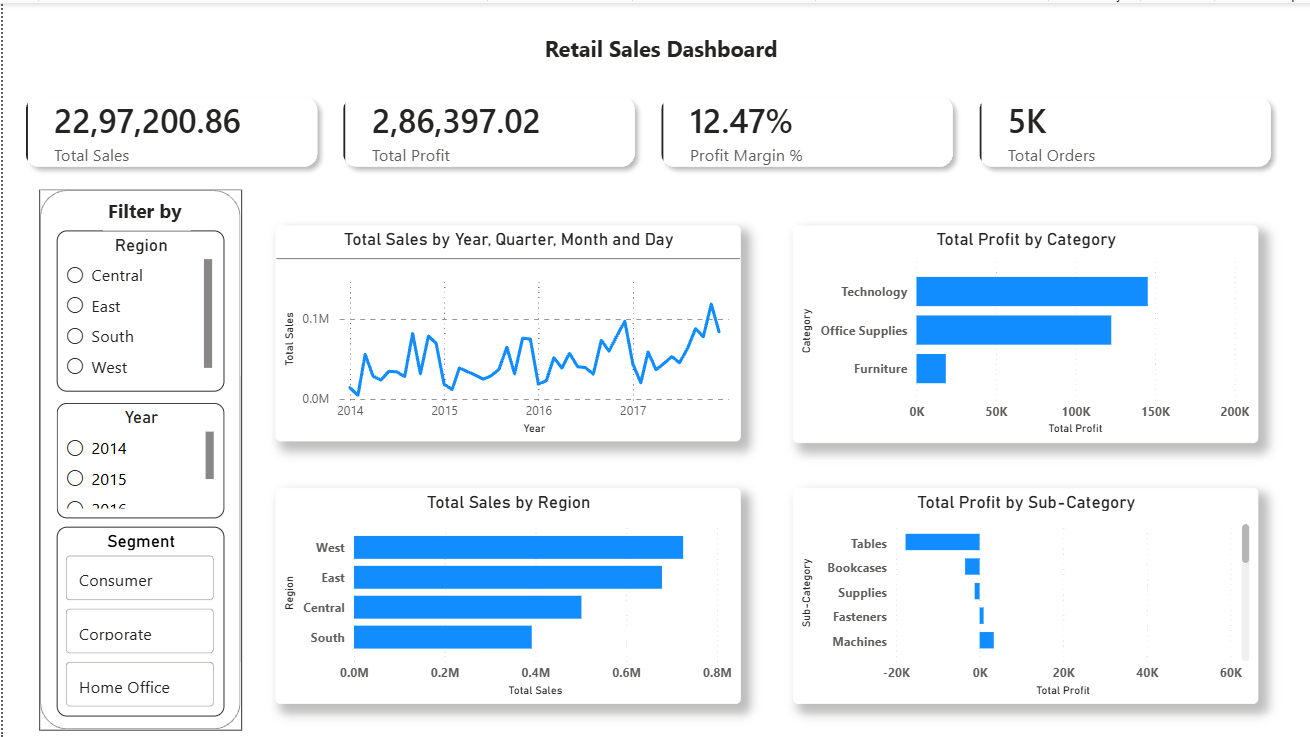

The dashboard page shown, as its layout file describes it:
{"tool":"powerbi","page":{"name":"Page 1","canvas":[1280,720],"ordinal":0},"visuals":[{"type":"shape","box":[35.5,182.2,198.1,529.5],"z":0},{"type":"lineChart","fields":{"Category":["DateTable.Month Start.Variation.Date Hierarchy.Year","DateTable.Month Start.Variation.Date Hierarchy.Quarter","DateTable.Month Start.Variation.Date Hierarchy.Month","DateTable.Month Start.Variation.Date Hierarchy.Day"],"Y":["superstore_clean.Total Sales"]},"box":[266.6,217.7,454.9,211.6],"z":1000},{"type":"clusteredBarChart","fields":{"Category":["superstore_clean.Category"],"Y":["superstore_clean.Total Profit"]},"box":[772.8,217.7,454.9,212.8],"z":2000},{"type":"cardVisual","fields":{"Data":["superstore_clean.Total Sales","superstore_clean.Total Profit","superstore_clean.Profit Margin %","superstore_clean.Total Orders"]},"box":[0,69.7,1264.4,112.5],"z":3000},{"type":"clusteredBarChart","fields":{"Category":["superstore_clean.Sub-Category"],"Y":["superstore_clean.Total Profit"]},"box":[772.8,474.5,454.9,211.6],"z":4000},{"type":"clusteredBarChart","fields":{"Category":["superstore_clean.Region"],"Y":["superstore_clean.Total Sales"]},"box":[266.6,474.5,454.9,211.6],"z":5000},{"type":"listSlicer","fields":{"Values":["DateTable.Year"]},"box":[52.6,391.3,163.9,112.5],"z":6000},{"type":"listSlicer","fields":{"Values":["superstore_clean.Region"]},"box":[52.6,222.6,163.9,157.7],"z":7000},{"type":"advancedSlicerVisual","fields":{"Values":["superstore_clean.Segment"]},"box":[52.6,512.4,163.9,185.9],"z":8000},{"type":"textbox","box":[481.6,24,324.1,53.8],"z":9000},{"type":"textbox","box":[102.7,185.9,68.5,36.7],"z":9001}]}

Visuals, with their boxes in screenshot pixels (x1, y1, x2, y2), scaled from the page's 1280x720 canvas onto the 1310x737 screenshot:
shape: 36, 187, 239, 729
lineChart - DateTable.Month Start.Variation.Date Hierarchy.Year x DateTable.Month Start.Variation.Date Hierarchy.Quarter: 273, 223, 738, 439
clusteredBarChart - superstore_clean.Category x superstore_clean.Total Profit: 791, 223, 1256, 441
cardVisual - superstore_clean.Total Sales x superstore_clean.Total Profit: 0, 71, 1294, 187
clusteredBarChart - superstore_clean.Sub-Category x superstore_clean.Total Profit: 791, 486, 1256, 702
clusteredBarChart - superstore_clean.Region x superstore_clean.Total Sales: 273, 486, 738, 702
listSlicer - DateTable.Year: 54, 401, 222, 516
listSlicer - superstore_clean.Region: 54, 228, 222, 389
advancedSlicerVisual - superstore_clean.Segment: 54, 524, 222, 715
textbox: 493, 25, 825, 80
textbox: 105, 190, 175, 228
